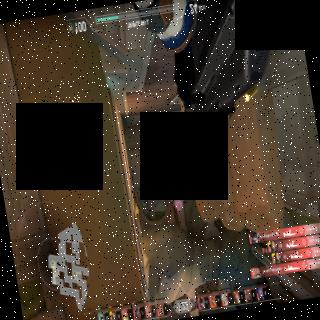ENEMY-BODY: (157, 144, 163, 163)
ENEMY-HEAD: (160, 159, 161, 162)
